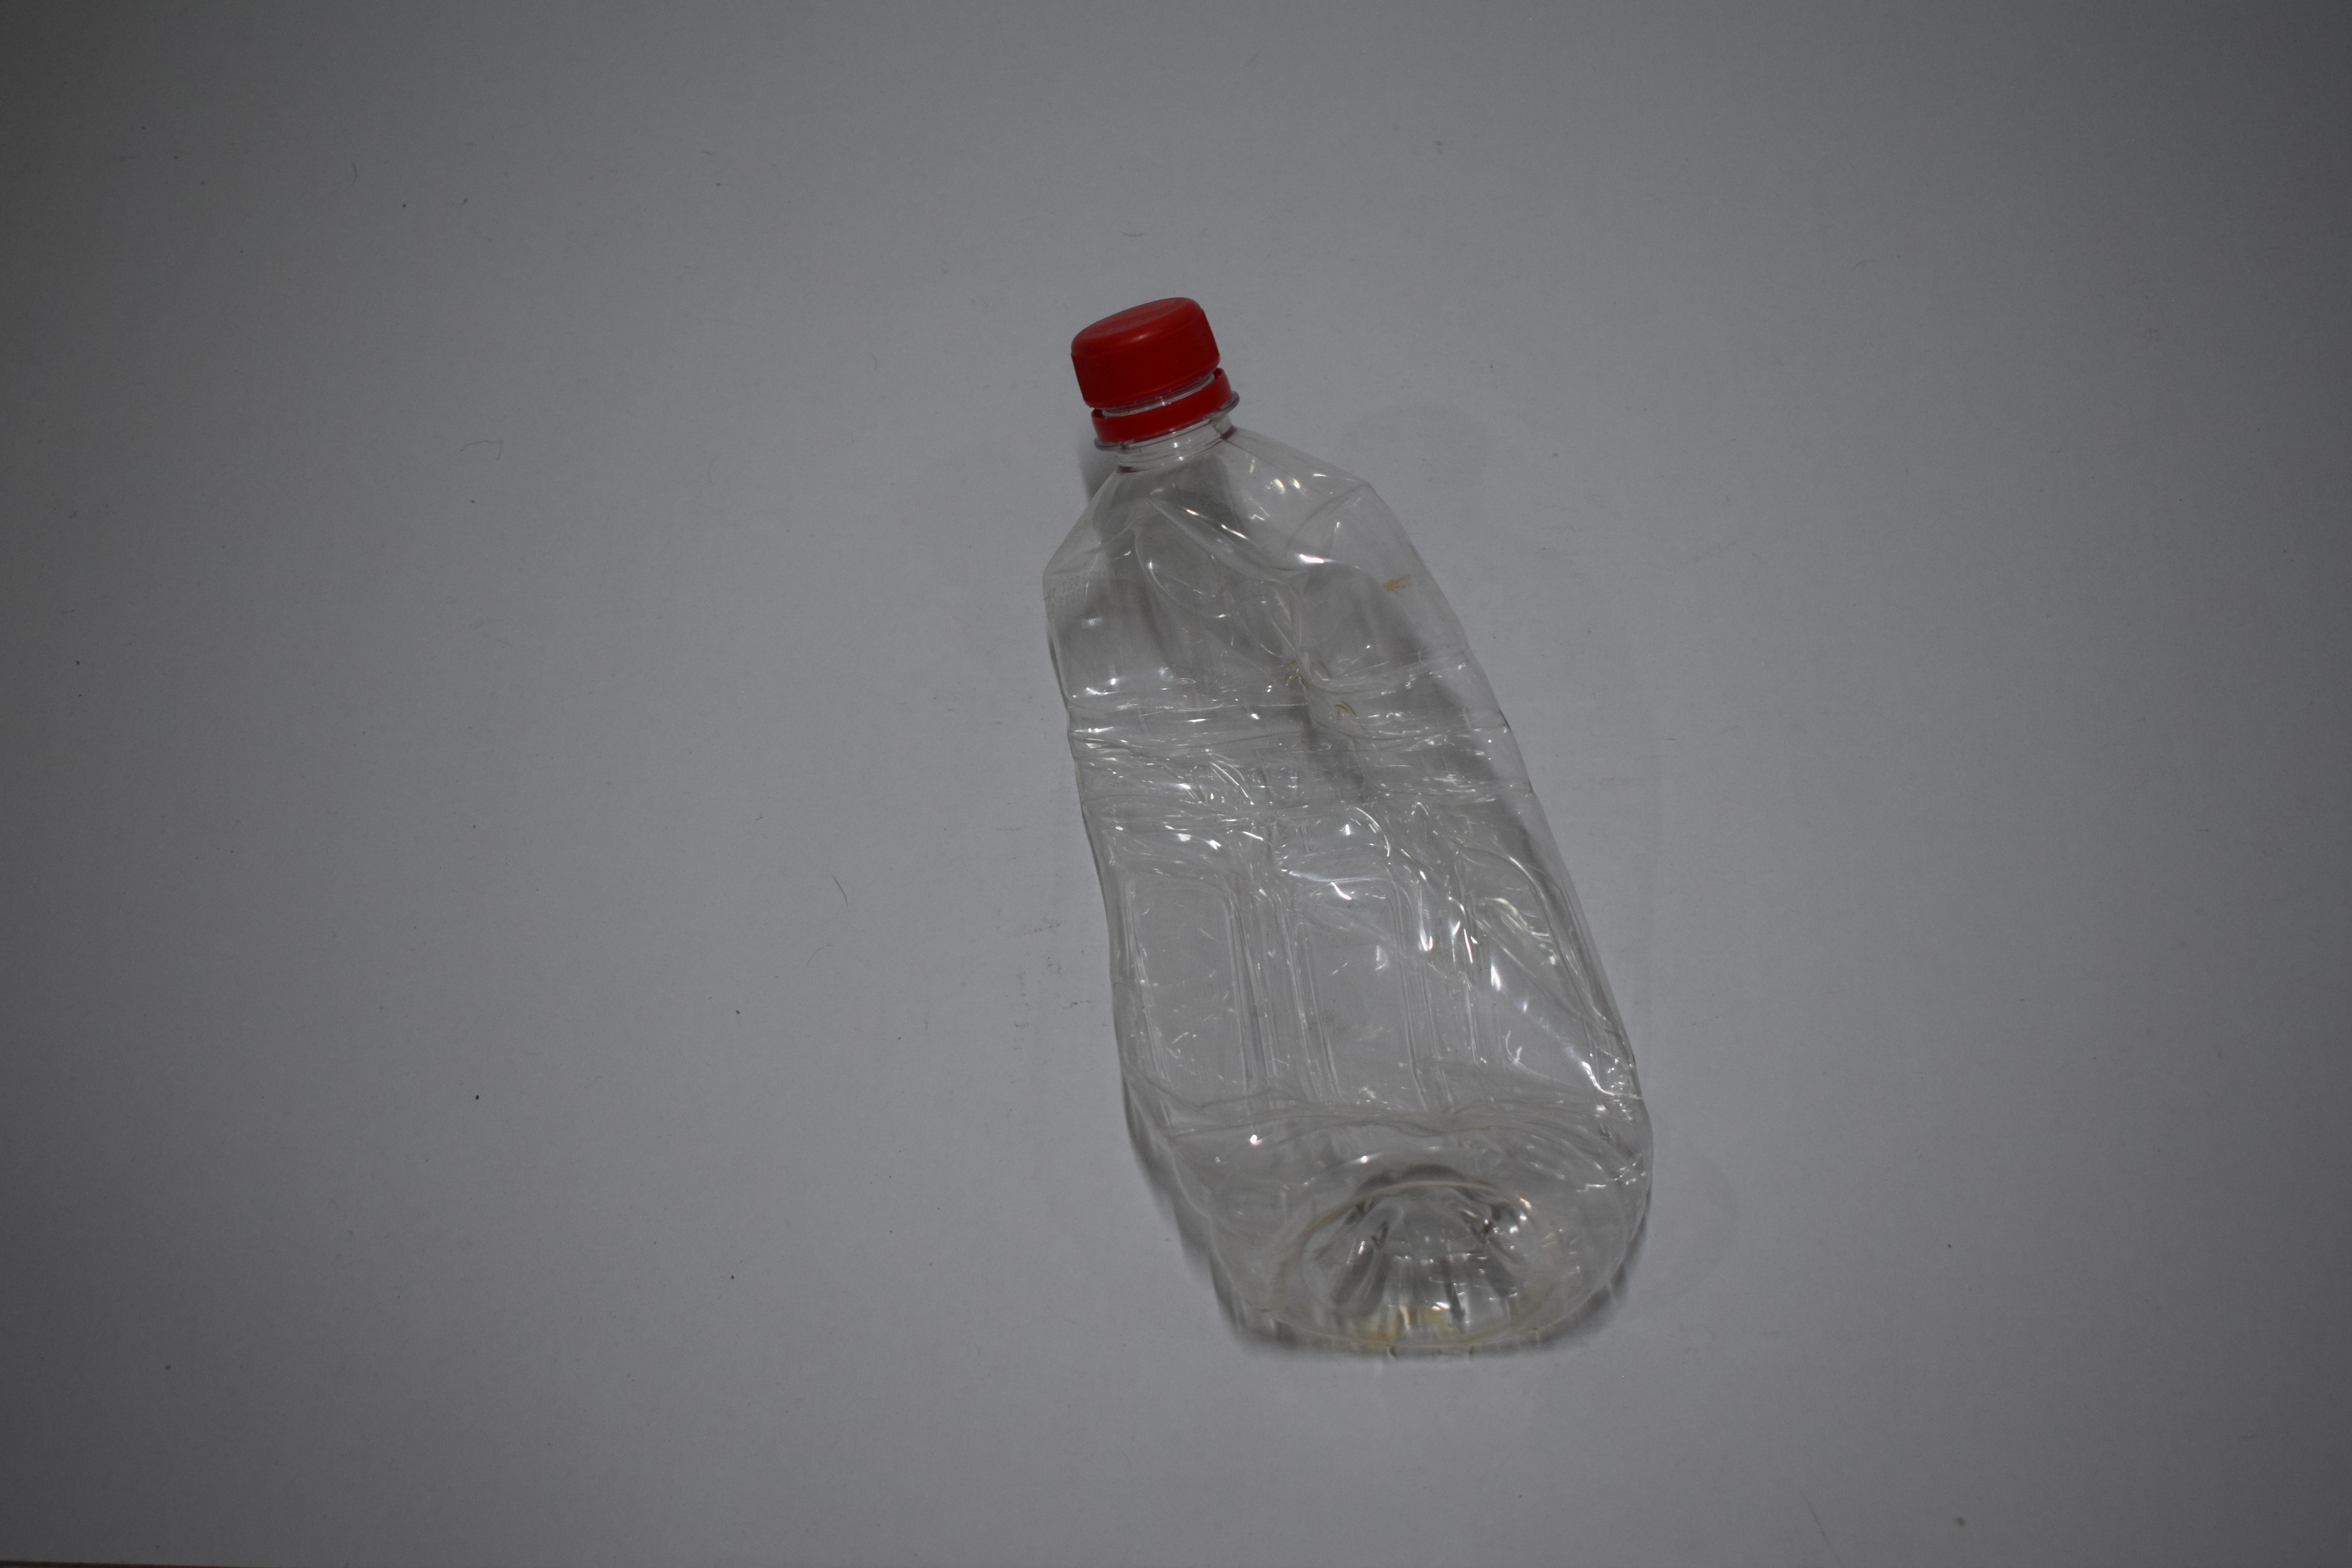bottle: (0, 0, 483, 565)
